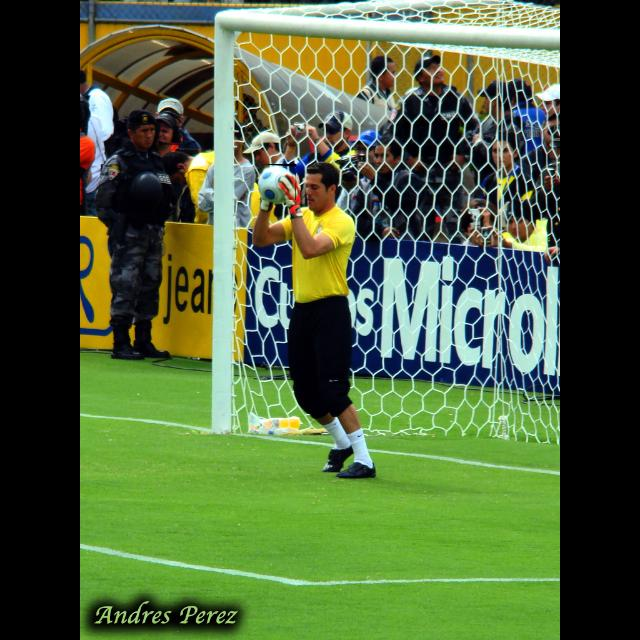Football: (258, 164, 296, 200)
